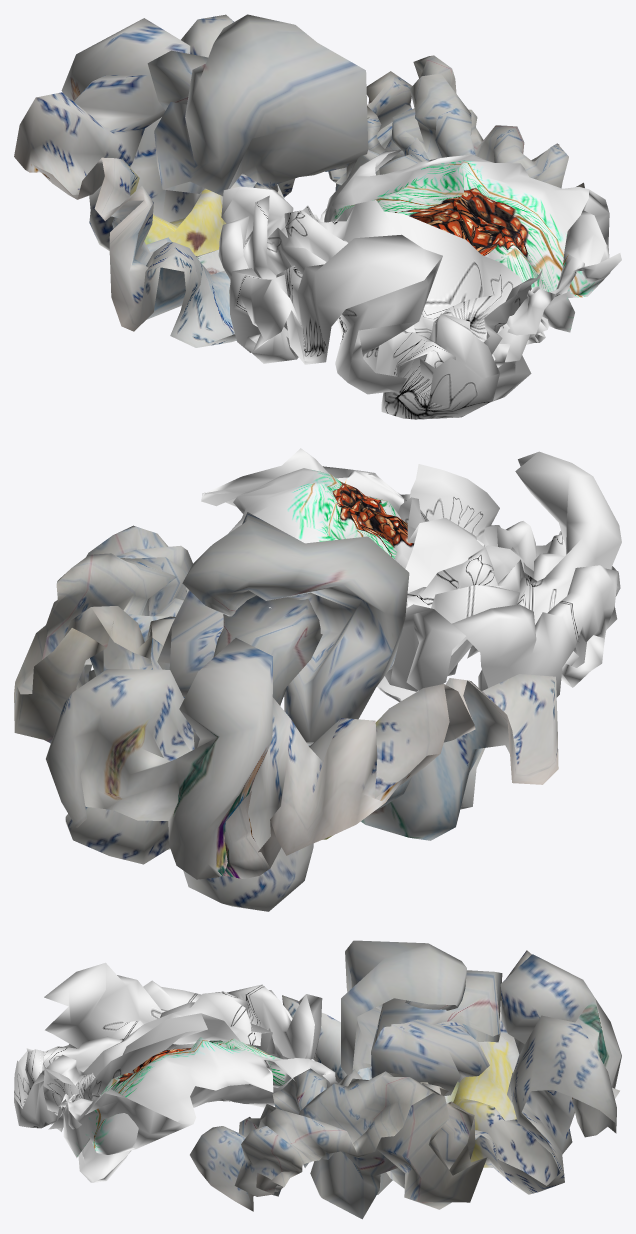
File: crumbled_paper.glb
The picture shows the model from 3 angles, top to bottom: view 1: azimuth 30°, elevation 25°; view 2: azimuth 150°, elevation 25°; view 3: azimuth 270°, elevation 25°; orthographic projection. The views are drawn at different scales.
Parts seen in each view (by area): view 1: Crumpled Paper 040, Crumpled Paper 030, Crumpled Paper 010, Crumpled Paper 050, Crumpled Paper 020; view 2: Crumpled Paper 030, Crumpled Paper 040, Crumpled Paper 010, Crumpled Paper 020, Crumpled Paper 050; view 3: Crumpled Paper 020, Crumpled Paper 030, Crumpled Paper 040, Crumpled Paper 010, Crumpled Paper 050.
Boxes of the visible parts, box(x1,y1,x2,y2) form: Crumpled Paper 040: box(218, 186, 542, 419); Crumpled Paper 030: box(14, 14, 294, 347); Crumpled Paper 010: box(147, 14, 368, 196); Crumpled Paper 050: box(319, 149, 621, 402); Crumpled Paper 020: box(328, 55, 584, 190); Crumpled Paper 030: box(46, 638, 558, 911); Crumpled Paper 040: box(385, 451, 621, 697); Crumpled Paper 010: box(157, 512, 409, 742); Crumpled Paper 020: box(14, 525, 199, 748); Crumpled Paper 050: box(201, 448, 418, 701); Crumpled Paper 020: box(190, 1068, 487, 1219); Crumpled Paper 030: box(282, 950, 621, 1194); Crumpled Paper 040: box(14, 962, 322, 1128); Crumpled Paper 010: box(341, 940, 502, 1096); Crumpled Paper 050: box(48, 1037, 338, 1182).
Size of the model in its own units: 0.1995 by 0.122 by 0.2852.
Materials: 1 (1 with a texture image).
